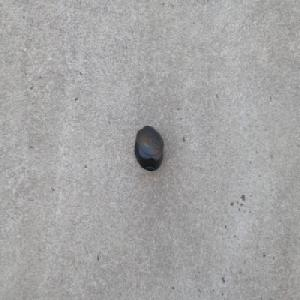FuelCap: (132, 125, 164, 174)
